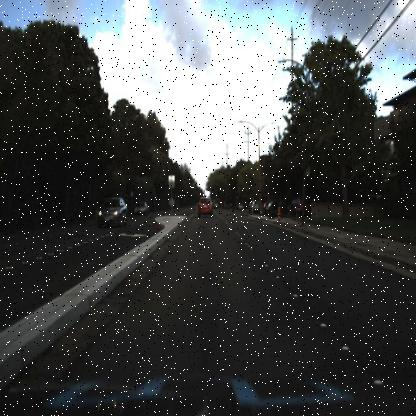car: (92, 194, 128, 228), (94, 194, 126, 229), (196, 194, 212, 220), (132, 200, 148, 218), (133, 201, 149, 218)
